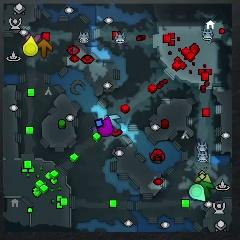p2: (189, 184, 206, 202)
p3: (97, 117, 113, 136)
p4: (23, 37, 38, 57)
x1: (25, 33, 40, 41)
x2: (195, 174, 211, 183)
x3: (104, 115, 121, 129)
x4: (199, 180, 213, 198)
x5: (37, 38, 52, 57)
